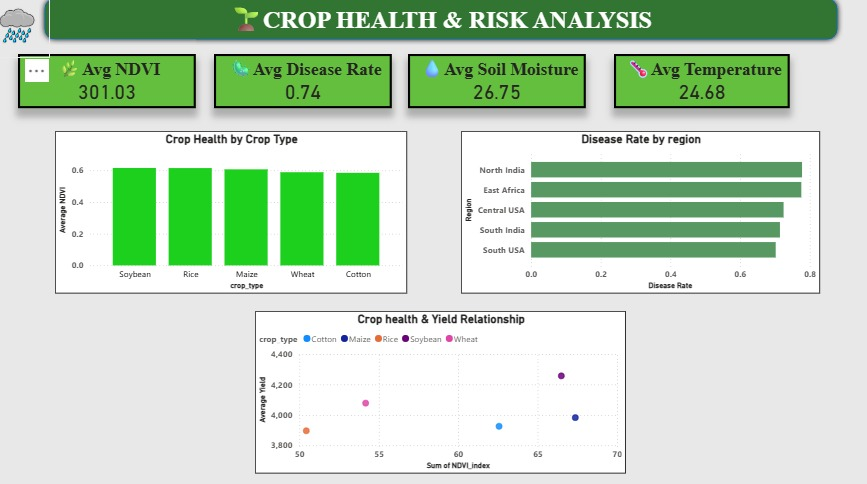

The dashboard page shown, as its layout file describes it:
{"tool":"powerbi","page":{"name":"Crop Health & Risk","canvas":[1280,720],"ordinal":4},"visuals":[{"type":"shape","box":[79.5,0,1157.8,74.9],"z":0},{"type":"card","title":"🌿Avg NDVI","fields":{"Values":["Sum(Smart_Farming_Crop_Yield_2024 (1).NDVI_index)"]},"box":[48.3,88.1,256.3,77.8],"z":1000},{"type":"card","title":"🦠Avg Disease Rate","fields":{"Values":["Smart_Farming_Crop_Yield_2024 (1).Disease Rate"]},"box":[331.4,88,256.3,77.8],"z":2000},{"type":"card","title":"💧Avg Soil Moisture","fields":{"Values":["Smart_Farming_Crop_Yield_2024 (1).Average Soil Moisture"]},"box":[610.2,88,256.3,77.8],"z":3000},{"type":"card","title":"🌡️Avg Temperature","fields":{"Values":["Smart_Farming_Crop_Yield_2024 (1).Average Temperature"]},"box":[907.3,88,253.4,77.8],"z":4000},{"type":"clusteredColumnChart","title":" Crop Health by Crop Type","fields":{"Category":["Smart_Farming_Crop_Yield_2024 (1).crop_type"],"Y":["Smart_Farming_Crop_Yield_2024 (1).Average NDVI"]},"box":[102.7,199.3,507.5,233.6],"z":5000},{"type":"clusteredBarChart","fields":{"Category":["Smart_Farming_Crop_Yield_2024 (1).region"],"Y":["Smart_Farming_Crop_Yield_2024 (1).Disease Rate"]},"box":[687.2,199.3,517.3,233.6],"z":6000},{"type":"scatterChart","title":"Crop health & Yield Relationship","fields":{"X":["Sum(Smart_Farming_Crop_Yield_2024 (1).NDVI_index)"],"Y":["Smart_Farming_Crop_Yield_2024 (1).Average Yield"],"Series":["Smart_Farming_Crop_Yield_2024 (1).crop_type"]},"box":[390.1,458.6,534.4,233.6],"z":7000},{"type":"image","box":[0,0,95.3,94.1],"z":8000}]}

Visuals, with their boxes in screenshot pixels (x1, y1, x2, y2), scaled from the page's 1280x720 canvas onto the 867x484 screenshot:
shape: locate(54, 0, 838, 50)
"🌿Avg NDVI" card: locate(33, 59, 206, 112)
"🦠Avg Disease Rate" card: locate(224, 59, 398, 111)
"💧Avg Soil Moisture" card: locate(413, 59, 587, 111)
"🌡️Avg Temperature" card: locate(615, 59, 786, 111)
" Crop Health by Crop Type" clusteredColumnChart: locate(70, 134, 413, 291)
clusteredBarChart - Smart_Farming_Crop_Yield_2024 (1).region x Smart_Farming_Crop_Yield_2024 (1).Disease Rate: locate(465, 134, 816, 291)
"Crop health & Yield Relationship" scatterChart: locate(264, 308, 626, 465)
image: locate(0, 0, 65, 63)
